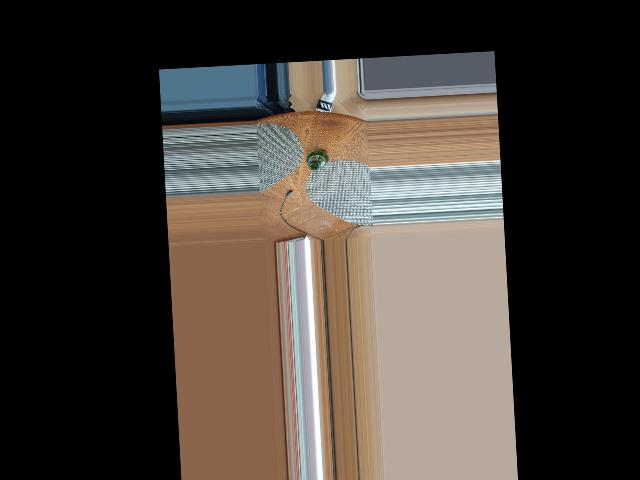beer: (306, 148, 329, 170)
